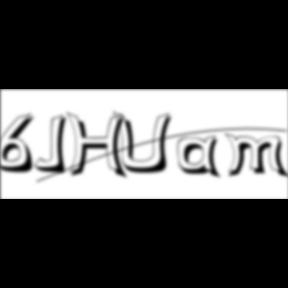6: (0, 112, 40, 176)
H: (66, 112, 132, 182)
J: (34, 114, 74, 176)
U: (112, 110, 178, 176)
a: (178, 135, 226, 182)
